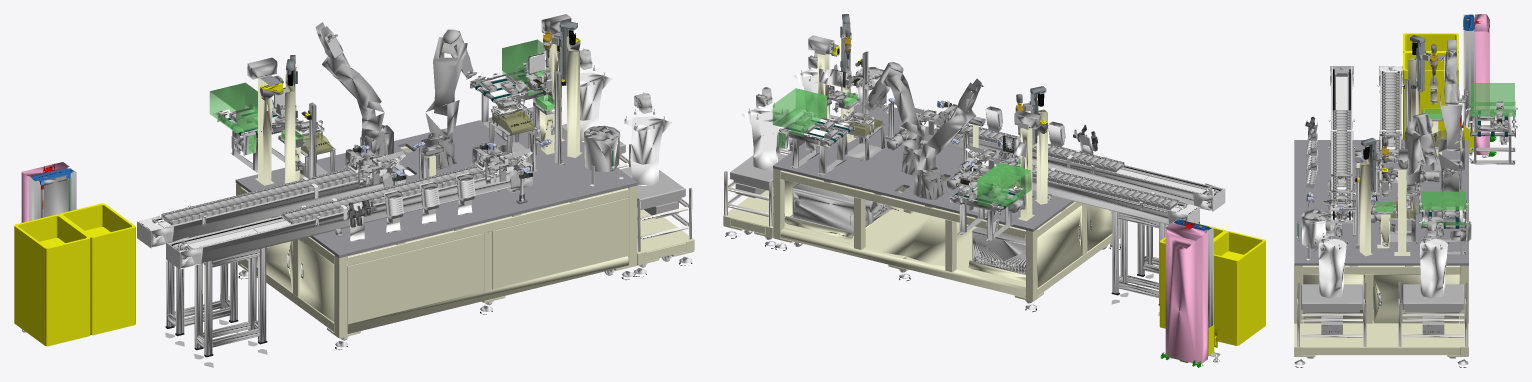
Rendered from cell_paste.glb.
3 renders of one model, left to right at view 1: azimuth 30°, elevation 25°; view 2: azimuth 150°, elevation 25°; view 3: azimuth 270°, elevation 25°, orthographic. The views are drawn at different scales.
Parts seen in each view (by area): view 1: part31, part25, part3, part35, part0, part1, part42, part63, part26, part40, part11, part24 (+5 smaller); view 2: part31, part25, part1, part35, part0, part3, part22, part42, part63, part26, part11, part24 (+3 smaller); view 3: part31, part25, part35, part0, part1, part63, part3, part24, part26, part22, part42, part56 (+6 smaller).
Part boxes in pixels (x1,y1,x2,y2): part31: (236, 36, 694, 338); part25: (156, 22, 685, 367); part3: (14, 37, 579, 346); part35: (149, 33, 637, 258); part0: (22, 32, 672, 340); part1: (29, 14, 644, 244); part42: (166, 72, 561, 355); part63: (209, 39, 554, 153); part26: (144, 34, 652, 259); part40: (139, 35, 558, 267); part11: (146, 20, 580, 259); part24: (617, 144, 692, 251); part31: (723, 37, 1120, 301); part25: (730, 34, 1212, 315); part1: (756, 35, 1213, 355); part35: (773, 44, 1214, 231); part0: (741, 48, 1225, 366); part3: (832, 46, 1265, 356); part22: (1165, 222, 1207, 363); part42: (792, 52, 1209, 303); part63: (772, 88, 1031, 206); part26: (761, 44, 1218, 212); part11: (789, 27, 1216, 220); part24: (724, 133, 791, 226); part31: (1294, 57, 1468, 356); part25: (1301, 50, 1515, 334); part35: (1294, 55, 1514, 265); part0: (1296, 51, 1517, 358); part1: (1303, 14, 1517, 313); part63: (1375, 83, 1515, 238); part3: (1382, 33, 1473, 171); part24: (1297, 282, 1467, 346); part26: (1306, 58, 1473, 241); part22: (1475, 14, 1489, 154); part42: (1336, 75, 1511, 254); part56: (1361, 35, 1425, 192).
Bounding box in the file's own units: 4.89 × 1.96 × 1.92.
